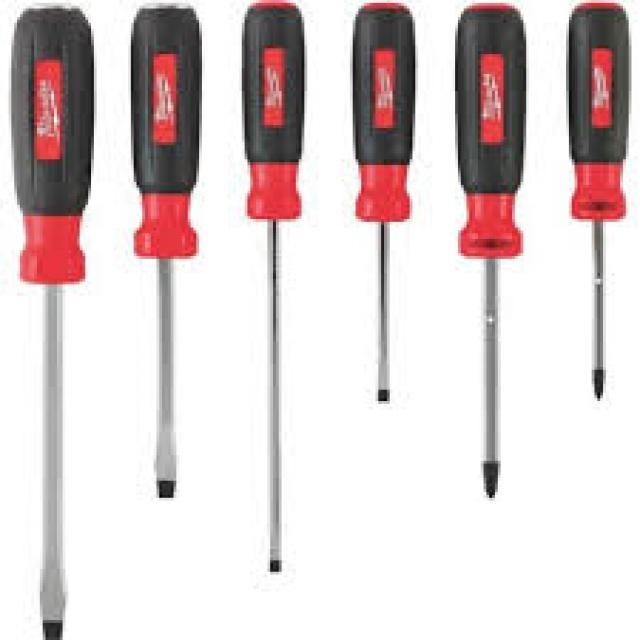screwdriver: (9, 0, 100, 640), (234, 0, 312, 586), (450, 0, 536, 506), (126, 0, 203, 506), (560, 0, 640, 410), (348, 0, 419, 407)
